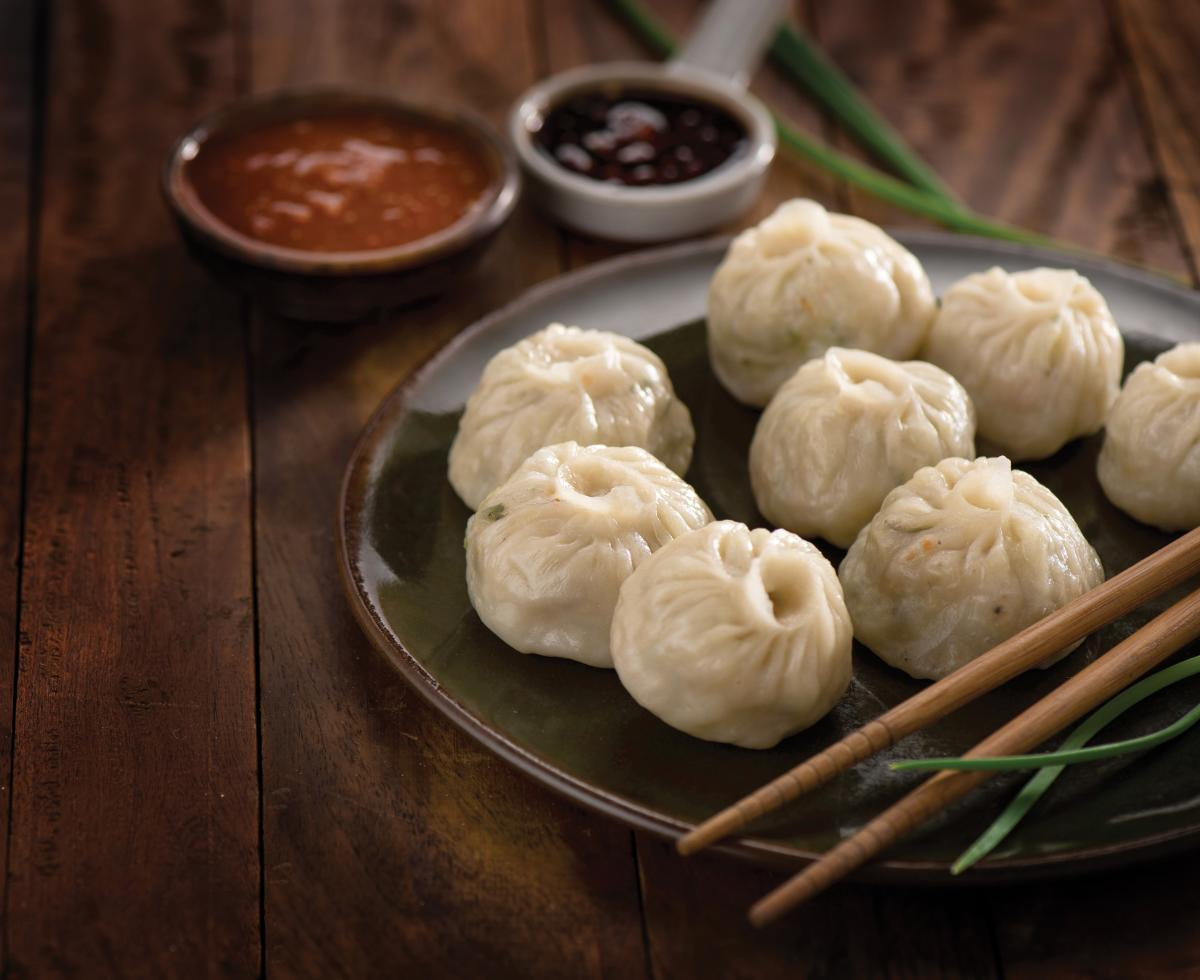momos: (839, 457, 1104, 679), (464, 441, 712, 668), (612, 520, 853, 748), (708, 199, 935, 405), (448, 323, 694, 507), (750, 347, 975, 548), (923, 267, 1123, 459), (1097, 342, 1200, 532)
